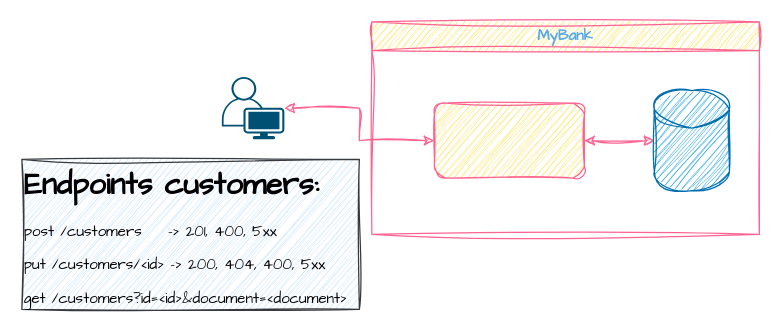
Some shapes in this 781 by 335 pixel diagram are drawn without their labels. Here are the shapes that lost their labels. From the top down, the centre of each, then its label:
the point at 508,140: Customer Manager
the point at 691,140: Customer Database
